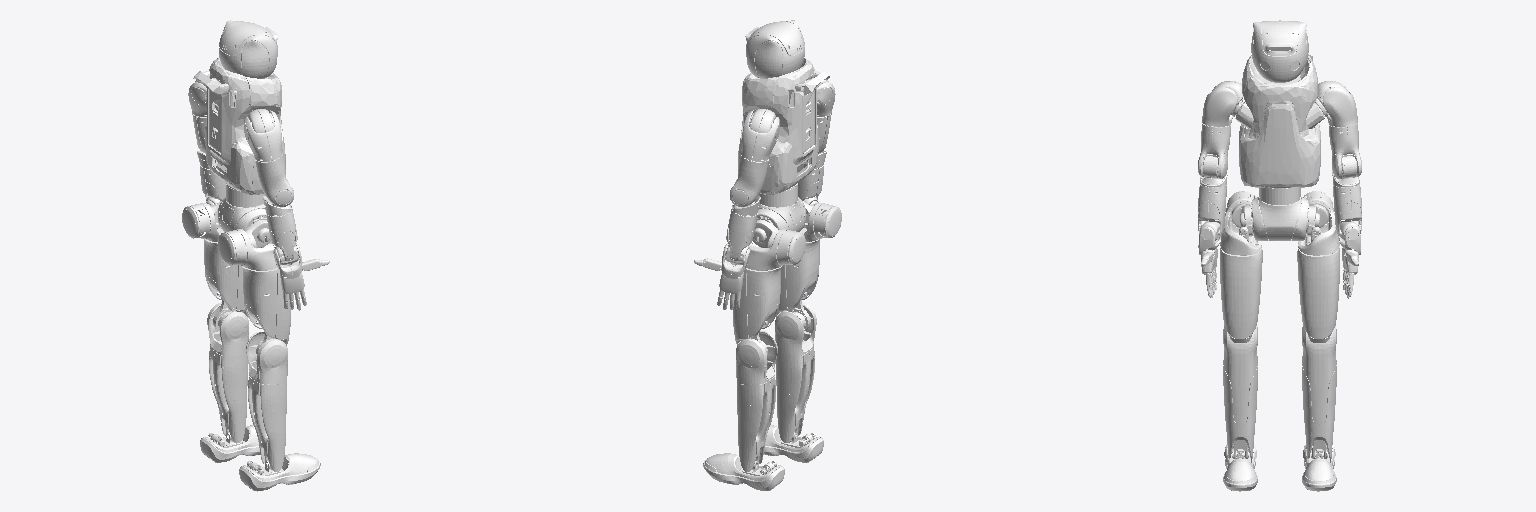
--- What the picture shows (computed from the rendered views, not written in the file) ---
Views: 3 orthographic renders of the robot side by side, from view 1: azimuth 30°, elevation 25°; view 2: azimuth 150°, elevation 25°; view 3: azimuth 270°, elevation 25°.
Model gr3v2_1_1 with 39 links and 38 joints (31 revolute, 7 fixed), rooted at base_link, posed all joints at 0.
Visible links, largest first — view 1: torso_link, right_shank_pitch_link, left_shank_pitch_link, head_pitch_link, right_thigh_yaw_link, left_thigh_yaw_link, right_foot_roll_link, right_thigh_roll_link, left_foot_roll_link, right_upper_arm_yaw_link, right_upper_arm_roll_link, left_thigh_roll_link (+7 smaller); view 2: torso_link, left_shank_pitch_link, right_shank_pitch_link, head_pitch_link, left_thigh_yaw_link, right_thigh_yaw_link, left_foot_roll_link, left_thigh_roll_link, right_foot_roll_link, left_upper_arm_yaw_link, left_upper_arm_roll_link, right_thigh_roll_link (+7 smaller); view 3: torso_link, right_shank_pitch_link, left_shank_pitch_link, left_thigh_yaw_link, right_thigh_yaw_link, head_pitch_link, base_link, right_thigh_roll_link, left_thigh_roll_link, right_upper_arm_yaw_link, left_upper_arm_yaw_link, right_foot_roll_link (+10 smaller).
Boxes of the visible links, x1,y1,x2,y2 form: torso_link: [193, 58, 285, 194]; right_shank_pitch_link: [246, 331, 287, 471]; left_shank_pitch_link: [207, 302, 248, 443]; head_pitch_link: [219, 20, 278, 78]; right_thigh_yaw_link: [242, 266, 290, 352]; left_thigh_yaw_link: [204, 239, 247, 331]; right_foot_roll_link: [239, 453, 320, 491]; right_thigh_roll_link: [218, 229, 277, 270]; left_foot_roll_link: [200, 425, 259, 462]; right_upper_arm_yaw_link: [255, 154, 293, 206]; right_upper_arm_roll_link: [244, 110, 282, 161]; left_thigh_roll_link: [182, 203, 223, 241]; torso_link: [738, 58, 829, 194]; left_shank_pitch_link: [736, 330, 777, 471]; right_shank_pitch_link: [775, 302, 816, 442]; head_pitch_link: [745, 20, 804, 78]; left_thigh_yaw_link: [733, 266, 781, 352]; right_thigh_yaw_link: [776, 239, 819, 330]; left_foot_roll_link: [703, 453, 784, 490]; left_thigh_roll_link: [746, 229, 805, 270]; right_foot_roll_link: [764, 425, 823, 462]; left_upper_arm_yaw_link: [730, 154, 768, 206]; left_upper_arm_roll_link: [741, 110, 779, 161]; right_thigh_roll_link: [800, 203, 841, 241]; torso_link: [1235, 54, 1324, 187]; right_shank_pitch_link: [1223, 326, 1257, 458]; left_shank_pitch_link: [1302, 326, 1336, 458]; left_thigh_yaw_link: [1297, 245, 1339, 342]; right_thigh_yaw_link: [1220, 246, 1262, 342]; head_pitch_link: [1251, 20, 1308, 82]; base_link: [1251, 197, 1308, 240]; right_thigh_roll_link: [1220, 191, 1261, 255]; left_thigh_roll_link: [1298, 191, 1339, 255]; right_upper_arm_yaw_link: [1198, 123, 1230, 178]; left_upper_arm_yaw_link: [1329, 123, 1361, 178]; right_foot_roll_link: [1223, 445, 1257, 491].
Size in the robot's own frame: 0.3854 by 0.5488 by 1.64 metres.
37 mesh visuals loaded from 37 distinct referenced files (37 binary STL).

The robot description file, URDF, robot "gr3v2_1_1":
<?xml version="1.0" encoding="utf-8"?>
<!-- 11082025-alpha-1 -->
<robot name="gr3v2_1_1">
  <mujoco>
    <compiler meshdir="../meshes" strippath="false" balanceinertia="true" fusestatic="false" discardvisual="false" />
  </mujoco>
  <link name="base_link">
    <inertial>
      <origin xyz="0.00126521 -3.743E-05 0.02420006" rpy="0 0 0" />
      <mass value="6.19011858" />
      <inertia ixx="0.03462235" ixy="-5.768E-05" ixz="-4.396E-05" iyy="0.03012463" iyz="2.472E-05" izz="0.02221918" />
    </inertial>
    <visual>
      <origin xyz="0 0 0" rpy="0 0 0" />
      <geometry>
        <mesh filename="../meshes/gr3v2_1_1/base_link.STL" />
      </geometry>
      <material name="">
        <color rgba="1 1 1 1" />
      </material>
    </visual>
    <collision>
      <origin xyz="0 0 0" rpy="1.57 0 0" />
      <geometry>
        <cylinder radius="0.065" length="0.15" />
      </geometry>
    </collision>
  </link>
  <link name="waist_yaw_link">
    <inertial>
      <origin xyz="0.01702794 6.721E-05 0.01763605" rpy="0 0 0" />
      <mass value="1.7648565" />
      <inertia ixx="0.00722748" ixy="4.6E-07" ixz="-0.00068076" iyy="0.00392986" iyz="-7.02E-06" izz="0.00730575" />
    </inertial>
    <visual>
      <origin xyz="0 0 0" rpy="0 0 0" />
      <geometry>
        <mesh filename="../meshes/gr3v2_1_1/waist_yaw_link.STL" />
      </geometry>
      <material name="">
        <color rgba="1 1 1 1" />
      </material>
    </visual>
    <collision>
      <origin xyz="0 0 0.025" rpy="0 0 0" />
      <geometry>
        <cylinder radius="0.075" length="0.1" />
      </geometry>
    </collision>
  </link>
  <joint name="waist_yaw_joint" type="revolute">
    <origin xyz="0 0 0.13633" rpy="0 0 0" />
    <parent link="base_link" />
    <child link="waist_yaw_link" />
    <axis xyz="0 0 1" />
    <limit lower="-2.618" upper="2.618" effort="140.4" velocity="12.985" />
    <dynamics armature="0.18" friction="0.01" damping="0.01" />
  </joint>
  <link name="waist_roll_link">
    <inertial>
      <origin xyz="-0.00194402 0 4.95E-05" rpy="0 0 0" />
      <mass value="0.20486665" />
      <inertia ixx="1.641E-05" ixy="0" ixz="-1E-08" iyy="0.00011436" iyz="0" izz="0.00011612" />
    </inertial>
    <visual>
      <origin xyz="0 0 0" rpy="0 0 0" />
      <geometry>
        <mesh filename="../meshes/gr3v2_1_1/waist_roll_link.STL" />
      </geometry>
      <material name="">
        <color rgba="1 1 1 1" />
      </material>
    </visual>
  </link>
  <joint name="waist_roll_joint" type="revolute">
    <origin xyz="0 0 0.0561" rpy="0 0 0" />
    <parent link="waist_yaw_link" />
    <child link="waist_roll_link" />
    <axis xyz="1 0 0" />
    <limit lower="-0.17453" upper="0.17453" effort="108.6" velocity="14.77" />
    <dynamics armature="0.0825" friction="0.01" damping="0.01" />
  </joint>
  <link name="waist_pitch_link">
    <inertial>
      <origin xyz="-0.0036965 -0.00014711 0.00611145" rpy="0 0 0" />
      <mass value="2.88081135" />
      <inertia ixx="0.01959026" ixy="-4.28E-06" ixz="0.00022178" iyy="0.00325257" iyz="1.26E-06" izz="0.01970109" />
    </inertial>
    <visual>
      <origin xyz="0 0 0" rpy="0 0 0" />
      <geometry>
        <mesh filename="../meshes/gr3v2_1_1/waist_pitch_link.STL" />
      </geometry>
      <material name="">
        <color rgba="1 1 1 1" />
      </material>
    </visual>
  </link>
  <joint name="waist_pitch_joint" type="revolute">
    <origin xyz="0 0 0" rpy="0 0 0" />
    <parent link="waist_roll_link" />
    <child link="waist_pitch_link" />
    <axis xyz="0 1 0" />
    <limit lower="-0.20944" upper="0.5236" effort="108.6" velocity="14.77" />
    <dynamics armature="0.0825" friction="0.01" damping="0.01" />
  </joint>
  <link name="torso_link">
    <inertial>
      <origin xyz="-0.021961 -6.36E-05 -0.0090606" rpy="0 0 0" />
      <mass value="13.694" />
      <inertia ixx="0.18768" ixy="5.801E-05" ixz="0.011146" iyy="0.18007" iyz="7.989E-05" izz="0.10396" />
    </inertial>
    <visual>
      <origin xyz="0 0 0" rpy="0 0 0" />
      <geometry>
        <mesh filename="../meshes/gr3v2_1_1/torso_link.STL" />
      </geometry>
      <material name="">
        <color rgba="1 1 1 1" />
      </material>
    </visual>
    <collision>
      <origin xyz="-0.01 0 -0.03" rpy="0 0 0" />
      <geometry>
        <box size="0.2 0.15 0.20" />
      </geometry>
    </collision>
  </link>
  <joint name="torso_joint" type="fixed">
    <origin xyz="0 0 0.19798" rpy="0 0 0" />
    <parent link="waist_pitch_link" />
    <child link="torso_link" />
    <axis xyz="0 0 0" />
  </joint>
  <link name="head_yaw_link">
    <inertial>
      <origin xyz="0.0012671 0.011829 0.012608" rpy="0 0 0" />
      <mass value="0.20381" />
      <inertia ixx="0.00020713" ixy="-2.25E-06" ixz="-6.5E-06" iyy="0.00016456" iyz="-3.84E-05" izz="8.006E-05" />
    </inertial>
    <visual>
      <origin xyz="0 0 0" rpy="0 0 0" />
      <geometry>
        <mesh filename="../meshes/gr3v2_1_1/head_yaw_link.STL" />
      </geometry>
      <material name="">
        <color rgba="1 1 1 1" />
      </material>
    </visual>
  </link>
  <joint name="head_yaw_joint" type="revolute">
    <origin xyz="0.0077592 0 0.18812" rpy="0 0 0" />
    <parent link="torso_link" />
    <child link="head_yaw_link" />
    <axis xyz="0 0 1" />
    <limit lower="-1.3963" upper="1.3963" effort="17.4" velocity="9.21" />
    <dynamics armature="0.111" friction="0.01" damping="0.01" />
  </joint>
  <link name="head_pitch_link">
    <inertial>
      <origin xyz="-0.0022067 0.0014158 0.022733" rpy="0 0 0" />
      <mass value="1.2045" />
      <inertia ixx="0.003928" ixy="-7E-07" ixz="0.00029216" iyy="0.0042584" iyz="3.061E-05" izz="0.004274" />
    </inertial>
    <visual>
      <origin xyz="0 0 0" rpy="0 0 0" />
      <geometry>
        <mesh filename="../meshes/gr3v2_1_1/head_pitch_link.STL" />
      </geometry>
      <material name="">
        <color rgba="1 1 1 1" />
      </material>
    </visual>
    <collision>
      <origin xyz="0 0 0" rpy="0 0 0" />
      <geometry>
        <sphere radius="0.1" />
      </geometry>
    </collision>
  </link>
  <joint name="head_pitch_joint" type="revolute">
    <origin xyz="0.0028545 0 0.037315" rpy="0 0 0" />
    <parent link="head_yaw_link" />
    <child link="head_pitch_link" />
    <axis xyz="0 1 0" />
    <limit lower="-0.5236" upper="0.1483" effort="17.4" velocity="9.21" />
    <dynamics armature="0.111" friction="0.01" damping="0.01" />
  </joint>
  <link name="camera_link">
    <inertial>
      <origin xyz="-0.0006 0 0" rpy="0 0 0" />
      <mass value="0.00156615" />
      <inertia ixx="8E-07" ixy="0" ixz="0" iyy="3E-08" iyz="0" izz="7.7E-07" />
    </inertial>
    <visual>
      <origin xyz="0 0 0" rpy="0 0 0" />
      <geometry>
        <mesh filename="../meshes/gr3v2_1_1/camera_link.STL" />
      </geometry>
      <material name="">
        <color rgba="1 1 1 1" />
      </material>
    </visual>
  </link>
  <joint name="camera_joint" type="fixed">
    <origin xyz="0.090296 0 0.05116" rpy="0 0.2618 0" />
    <parent link="head_pitch_link" />
    <child link="camera_link" />
    <axis xyz="0 0 0" />
  </joint>
  <link name="right_upper_arm_pitch_link">
    <inertial>
      <origin xyz="-0.00109222 -0.0432651 7.305E-05" rpy="0 0 0" />
      <mass value="1.40210533" />
      <inertia ixx="0.00334318" ixy="-2.606E-05" ixz="1.51E-06" iyy="0.00138339" iyz="-1.328E-05" izz="0.0031165" />
    </inertial>
    <visual>
      <origin xyz="0 0 0" rpy="0 0 0" />
      <geometry>
        <mesh filename="../meshes/gr3v2_1_1/right_upper_arm_pitch_link.STL" />
      </geometry>
      <material name="">
        <color rgba="1 1 1 1" />
      </material>
    </visual>
  </link>
  <joint name="right_shoulder_pitch_joint" type="revolute">
    <origin xyz="-0.017665 -0.11819 0" rpy="-0.53175 -0.16811 -0.2775" />
    <parent link="torso_link" />
    <child link="right_upper_arm_pitch_link" />
    <axis xyz="0 1 0" />
    <limit lower="-2.9671" upper="2.9671" effort="74.4" velocity="7.75" />
    <dynamics armature="0.606" friction="0.01" damping="0.01" />
  </joint>
  <link name="right_upper_arm_roll_link">
    <inertial>
      <origin xyz="-0.00922224 0.00507521 -0.04401168" rpy="0 0 0" />
      <mass value="1.14984334" />
      <inertia ixx="0.00387156" ixy="-5.101E-05" ixz="0.00039406" iyy="0.0040806" iyz="0.00054528" izz="0.00179979" />
    </inertial>
    <visual>
      <origin xyz="0 0 0" rpy="0 0 0" />
      <geometry>
        <mesh filename="../meshes/gr3v2_1_1/right_upper_arm_roll_link.STL" />
      </geometry>
      <material name="">
        <color rgba="1 1 1 1" />
      </material>
    </visual>
    <collision>
      <origin xyz="0 0 0" rpy="0 0 0" />
      <geometry>
        <sphere radius="0.05" />
      </geometry>
    </collision>
  </link>
  <joint name="right_shoulder_roll_joint" type="revolute">
    <origin xyz="0 -0.0695 0" rpy="0 0 0" />
    <parent link="right_upper_arm_pitch_link" />
    <child link="right_upper_arm_roll_link" />
    <axis xyz="1 0 0" />
    <limit lower="-1.9199" upper="0.2618" effort="74.4" velocity="7.75" />
    <dynamics armature="0.606" friction="0.01" damping="0.01" />
  </joint>
  <link name="right_upper_arm_yaw_link">
    <inertial>
      <origin xyz="0.00487548 -0.00323214 -0.06703769" rpy="0 0 0" />
      <mass value="1.09369321" />
      <inertia ixx="0.00387487" ixy="4.015E-05" ixz="0.00036967" iyy="0.00381538" iyz="-0.00024676" izz="0.00126043" />
    </inertial>
    <visual>
      <origin xyz="0 0 0" rpy="0 0 0" />
      <geometry>
        <mesh filename="../meshes/gr3v2_1_1/right_upper_arm_yaw_link.STL" />
      </geometry>
      <material name="">
        <color rgba="1 1 1 1" />
      </material>
    </visual>
    <collision>
      <origin xyz="0 0 -0.05" rpy="0 0 0" />
      <geometry>
        <cylinder radius="0.04" length="0.14" />
      </geometry>
    </collision>
  </link>
  <joint name="right_shoulder_yaw_joint" type="revolute">
    <origin xyz="0 0.022594 -0.10473" rpy="0.5236 0 0" />
    <parent link="right_upper_arm_roll_link" />
    <child link="right_upper_arm_yaw_link" />
    <axis xyz="0 0 1" />
    <limit lower="-1.8326" upper="1.8326" effort="42.9" velocity="6.28" />
    <dynamics armature="0.222" friction="0.01" damping="0.01" />
  </joint>
  <link name="right_lower_arm_pitch_link">
    <inertial>
      <origin xyz="-0.00706017 -0.00106132 -0.02042184" rpy="0 0 0" />
      <mass value="0.87226659" />
      <inertia ixx="0.00137334" ixy="5.84E-06" ixz="-0.00020615" iyy="0.00144177" iyz="1.93E-05" izz="0.00069702" />
    </inertial>
    <visual>
      <origin xyz="0 0 0" rpy="0 0 0" />
      <geometry>
        <mesh filename="../meshes/gr3v2_1_1/right_lower_arm_pitch_link.STL" />
      </geometry>
      <material name="">
        <color rgba="1 1 1 1" />
      </material>
    </visual>
  </link>
  <joint name="right_elbow_pitch_joint" type="revolute">
    <origin xyz="0.01643 0 -0.1385" rpy="0 0 0" />
    <parent link="right_upper_arm_yaw_link" />
    <child link="right_lower_arm_pitch_link" />
    <axis xyz="0 1 0" />
    <limit lower="-2.2689" upper="0.087266" effort="42.9" velocity="6.28" />
    <dynamics armature="0.222" friction="0.01" damping="0.01" />
  </joint>
  <link name="right_hand_yaw_link">
    <inertial>
      <origin xyz="-0.00029804 0.00296836 -0.06870519" rpy="0 0 0" />
      <mass value="1.21478268" />
      <inertia ixx="0.00310758" ixy="8.05E-06" ixz="-1.747E-05" iyy="0.00297784" iyz="0.00012298" izz="0.00103708" />
    </inertial>
    <visual>
      <origin xyz="0 0 0" rpy="0 0 0" />
      <geometry>
        <mesh filename="../meshes/gr3v2_1_1/right_hand_yaw_link.STL" />
      </geometry>
      <material name="">
        <color rgba="1 1 1 1" />
      </material>
    </visual>
    <collision>
      <origin xyz="0 0 -0.07" rpy="0 0 0" />
      <geometry>
        <cylinder radius="0.04" length="0.12" />
      </geometry>
    </collision>
  </link>
  <joint name="right_wrist_yaw_joint" type="revolute">
    <origin xyz="-0.01643 0 -0.05" rpy="0 0 0" />
    <parent link="right_lower_arm_pitch_link" />
    <child link="right_hand_yaw_link" />
    <axis xyz="0 0 1" />
    <limit lower="-1.8326" upper="1.8326" effort="42.9" velocity="6.28" />
    <dynamics armature="0.222" friction="0.01" damping="0.01" />
  </joint>
  <link name="right_hand_pitch_link">
    <inertial>
      <origin xyz="0.00394048 -2.63E-06 7.196E-05" rpy="0 0 0" />
      <mass value="0.57735702" />
      <inertia ixx="0.00032034" ixy="2.1E-07" ixz="-3.4E-07" iyy="0.00034721" iyz="4.7E-07" izz="0.00032025" />
    </inertial>
    <visual>
      <origin xyz="0 0 0" rpy="0 0 0" />
      <geometry>
        <mesh filename="../meshes/gr3v2_1_1/right_hand_pitch_link.STL" />
      </geometry>
      <material name="">
        <color rgba="1 1 1 1" />
      </material>
    </visual>
  </link>
  <joint name="right_wrist_pitch_joint" type="revolute">
    <origin xyz="0 0 -0.18" rpy="0 0 0" />
    <parent link="right_hand_yaw_link" />
    <child link="right_hand_pitch_link" />
    <axis xyz="0 1 0" />
    <limit lower="-0.87266" upper="1.309" effort="17.4" velocity="9.2153" />
    <dynamics armature="0.111" friction="0.01" damping="0.01" />
  </joint>
  <link name="right_hand_roll_link">
    <inertial>
      <origin xyz="0.00765557 -0.00226771 -0.02129629" rpy="0 0 0" />
      <mass value="0.2121397" />
      <inertia ixx="0.00018994" ixy="-3.38E-06" ixz="-2.638E-05" iyy="0.00028438" iyz="-2.011E-05" izz="0.000194" />
    </inertial>
    <visual>
      <origin xyz="0 0 0" rpy="0 0 0" />
      <geometry>
        <mesh filename="../meshes/gr3v2_1_1/right_hand_roll_link.STL" />
      </geometry>
      <material name="">
        <color rgba="1 1 1 1" />
      </material>
    </visual>
  </link>
  <joint name="right_wrist_roll_joint" type="revolute">
    <origin xyz="0 -0.00049967 0" rpy="0 0 0" />
    <parent link="right_hand_pitch_link" />
    <child link="right_hand_roll_link" />
    <axis xyz="1 0 0" />
    <limit lower="-1.2217" upper="1.0472" effort="17.4" velocity="9.2153" />
    <dynamics armature="0.111" friction="0.01" damping="0.01" />
  </joint>
  <link name="right_end_effector_link">
  </link>
  <joint name="right_end_effector_joint" type="fixed">
    <origin xyz="0 0 -0.049" rpy="0 0 0" />
    <parent link="right_hand_roll_link" />
    <child link="right_end_effector_link" />
    <axis xyz="0 0 0" />
  </joint>
  <link name="left_upper_arm_pitch_link">
    <inertial>
      <origin xyz="-0.00109222 0.0432651 7.305E-05" rpy="0 0 0" />
      <mass value="1.40210533" />
      <inertia ixx="0.00334318" ixy="2.606E-05" ixz="1.51E-06" iyy="0.00138339" iyz="1.328E-05" izz="0.0031165" />
    </inertial>
    <visual>
      <origin xyz="0 0 0" rpy="0 0 0" />
      <geometry>
        <mesh filename="../meshes/gr3v2_1_1/left_upper_arm_pitch_link.STL" />
      </geometry>
      <material name="">
        <color rgba="1 1 1 1" />
      </material>
    </visual>
  </link>
  <joint name="left_shoulder_pitch_joint" type="revolute">
    <origin xyz="-0.017665 0.11818 0" rpy="0.53175 -0.16811 0.2775" />
    <parent link="torso_link" />
    <child link="left_upper_arm_pitch_link" />
    <axis xyz="0 1 0" />
    <limit lower="-2.9671" upper="2.9671" effort="74.4" velocity="7.75" />
    <dynamics armature="0.606" friction="0.01" damping="0.01" />
  </joint>
  <link name="left_upper_arm_roll_link">
    <inertial>
      <origin xyz="-0.00922224 -0.00507521 -0.04401168" rpy="0 0 0" />
      <mass value="1.14984334" />
      <inertia ixx="0.00387156" ixy="5.101E-05" ixz="0.00039406" iyy="0.0040806" iyz="-0.00054528" izz="0.00179979" />
    </inertial>
    <visual>
      <origin xyz="0 0 0" rpy="0 0 0" />
      <geometry>
        <mesh filename="../meshes/gr3v2_1_1/left_upper_arm_roll_link.STL" />
      </geometry>
      <material name="">
        <color rgba="1 1 1 1" />
      </material>
    </visual>
    <collision>
      <origin xyz="0 0 0" rpy="0 0 0" />
      <geometry>
        <sphere radius="0.05" />
      </geometry>
    </collision>
  </link>
  <joint name="left_shoulder_roll_joint" type="revolute">
    <origin xyz="0 0.0695 0" rpy="0 0 0" />
    <parent link="left_upper_arm_pitch_link" />
    <child link="left_upper_arm_roll_link" />
    <axis xyz="1 0 0" />
    <limit lower="-0.2618" upper="1.9199" effort="74.4" velocity="7.75" />
    <dynamics armature="0.606" friction="0.01" damping="0.01" />
  </joint>
  <link name="left_upper_arm_yaw_link">
    <inertial>
      <origin xyz="0.00487548 0.00323214 -0.06703769" rpy="0 0 0" />
      <mass value="1.09369321" />
      <inertia ixx="0.00387487" ixy="-4.015E-05" ixz="0.00036967" iyy="0.00381538" iyz="0.00024676" izz="0.00126043" />
    </inertial>
    <visual>
      <origin xyz="0 0 0" rpy="0 0 0" />
      <geometry>
        <mesh filename="../meshes/gr3v2_1_1/left_upper_arm_yaw_link.STL" />
      </geometry>
      <material name="">
        <color rgba="1 1 1 1" />
      </material>
    </visual>
    <collision>
      <origin xyz="0 0 -0.05" rpy="0 0 0" />
      <geometry>
        <cylinder radius="0.04" length="0.14" />
      </geometry>
    </collision>
  </link>
  <joint name="left_shoulder_yaw_joint" type="revolute">
    <origin xyz="0 -0.022594 -0.10473" rpy="-0.5236 0 0" />
    <parent link="left_upper_arm_roll_link" />
    <child link="left_upper_arm_yaw_link" />
    <axis xyz="0 0 1" />
    <limit lower="-1.8326" upper="1.8326" effort="42.9" velocity="6.28" />
    <dynamics armature="0.222" friction="0.01" damping="0.01" />
  </joint>
  <link name="left_lower_arm_pitch_link">
    <inertial>
      <origin xyz="-0.00706017 0.00106132 -0.02042184" rpy="0 0 0" />
      <mass value="0.87226659" />
      <inertia ixx="0.00137334" ixy="-5.84E-06" ixz="-0.00020615" iyy="0.00144177" iyz="-1.93E-05" izz="0.00069702" />
    </inertial>
    <visual>
      <origin xyz="0 0 0" rpy="0 0 0" />
      <geometry>
        <mesh filename="../meshes/gr3v2_1_1/left_lower_arm_pitch_link.STL" />
      </geometry>
      <material name="">
        <color rgba="1 1 1 1" />
      </material>
    </visual>
  </link>
  <joint name="left_elbow_pitch_joint" type="revolute">
    <origin xyz="0.01643 0 -0.1385" rpy="0 0 0" />
    <parent link="left_upper_arm_yaw_link" />
    <child link="left_lower_arm_pitch_link" />
    <axis xyz="0 1 0" />
    <limit lower="-2.2689" upper="0.087266" effort="42.9" velocity="6.28" />
    <dynamics armature="0.222" friction="0.01" damping="0.01" />
  </joint>
  <link name="left_hand_yaw_link">
    <inertial>
      <origin xyz="-0.00029804 -0.00296836 -0.06870519" rpy="0 0 0" />
      <mass value="1.21478268" />
      <inertia ixx="0.00310758" ixy="-8.05E-06" ixz="-1.747E-05" iyy="0.00297784" iyz="-0.00012298" izz="0.00103708" />
    </inertial>
    <visual>
      <origin xyz="0 0 0" rpy="0 0 0" />
      <geometry>
        <mesh filename="../meshes/gr3v2_1_1/left_hand_yaw_link.STL" />
      </geometry>
      <material name="">
        <color rgba="1 1 1 1" />
      </material>
    </visual>
    <collision>
      <origin xyz="0 0 -0.07" rpy="0 0 0" />
      <geometry>
        <cylinder radius="0.04" length="0.12" />
      </geometry>
    </collision>
  </link>
  <joint name="left_wrist_yaw_joint" type="revolute">
    <origin xyz="-0.01643 0 -0.05" rpy="0 0 0" />
    <parent link="left_lower_arm_pitch_link" />
    <child link="left_hand_yaw_link" />
    <axis xyz="0 0 1" />
    <limit lower="-1.8326" upper="1.8326" effort="42.9" velocity="6.28" />
    <dynamics armature="0.222" friction="0.01" damping="0.01" />
  </joint>
  <link name="left_hand_pitch_link">
    <inertial>
      <origin xyz="0.00394048 2.63E-06 7.196E-05" rpy="0 0 0" />
      <mass value="0.57735702" />
      <inertia ixx="0.00032034" ixy="-2.1E-07" ixz="-3.4E-07" iyy="0.00034721" iyz="-4.7E-07" izz="0.00032025" />
    </inertial>
    <visual>
      <origin xyz="0 0 0" rpy="0 0 0" />
      <geometry>
        <mesh filename="../meshes/gr3v2_1_1/left_hand_pitch_link.STL" />
      </geometry>
      <material name="">
        <color rgba="1 1 1 1" />
      </material>
    </visual>
  </link>
  <joint name="left_wrist_pitch_joint" type="revolute">
    <origin xyz="0 0 -0.18" rpy="0 0 0" />
    <parent link="left_hand_yaw_link" />
    <child link="left_hand_pitch_link" />
    <axis xyz="0 1 0" />
    <limit lower="-0.87266" upper="1.309" effort="17.4" velocity="9.2153" />
    <dynamics armature="0.111" friction="0.01" damping="0.01" />
  </joint>
  <link name="left_hand_roll_link">
    <inertial>
      <origin xyz="0.00765557 0.00226771 -0.02129629" rpy="0 0 0" />
      <mass value="0.2121397" />
      <inertia ixx="0.00018994" ixy="3.38E-06" ixz="-2.638E-05" iyy="0.00028438" iyz="2.011E-05" izz="0.000194" />
    </inertial>
    <visual>
      <origin xyz="0 0 0" rpy="0 0 0" />
      <geometry>
        <mesh filename="../meshes/gr3v2_1_1/left_hand_roll_link.STL" />
      </geometry>
      <material name="">
        <color rgba="1 1 1 1" />
      </material>
    </visual>
  </link>
  <joint name="left_wrist_roll_joint" type="revolute">
    <origin xyz="0 0 0" rpy="0 0 0" />
    <parent link="left_hand_pitch_link" />
    <child link="left_hand_roll_link" />
    <axis xyz="1 0 0" />
    <limit lower="-1.0472" upper="1.2217" effort="17.4" velocity="9.2153" />
    <dynamics armature="0.111" friction="0.01" damping="0.01" />
  </joint>
  <link name="left_end_effector_link">

  </link>
  <joint name="left_end_effector_joint" type="fixed">
    <origin xyz="0 0 -0.049" rpy="0 0 0" />
    <parent link="left_hand_roll_link" />
    <child link="left_end_effector_link" />
    <axis xyz="0 0 0" />
  </joint>
  <link name="right_thigh_pitch_link">
    <inertial>
      <origin xyz="-0.03371257 -0.01478299 -0.00641529" rpy="0 0 0" />
      <mass value="2.11064201" />
      <inertia ixx="0.0037506" ixy="-0.00234201" ixz="-0.00058672" iyy="0.00634445" iyz="-0.00042262" izz="0.0077446" />
    </inertial>
    <visual>
      <origin xyz="0 0 0" rpy="0 0 0" />
      <geometry>
        <mesh filename="../meshes/gr3v2_1_1/right_thigh_pitch_link.STL" />
      </geometry>
      <material name="">
        <color rgba="1 1 1 1" />
      </material>
    </visual>
  </link>
  <joint name="right_hip_pitch_joint" type="revolute">
    <origin xyz="0 -0.074191 -0.0064909" rpy="0.087266 0 0" />
    <parent link="base_link" />
    <child link="right_thigh_pitch_link" />
    <axis xyz="0 1 0" />
    <limit lower="-2.618" upper="2.618" effort="366" velocity="6.49" />
    <dynamics armature="0.592" friction="0.01" damping="0.01" />
  </joint>
  <link name="right_thigh_roll_link">
    <inertial>
      <origin xyz="-0.04311887 -0.00872071 -0.0463606" rpy="0 0 0" />
      <mass value="3.23888801" />
      <inertia ixx="0.01009227" ixy="0.00074153" ixz="0.00661154" iyy="0.01947534" iyz="-0.00041876" izz="0.01518734" />
    </inertial>
    <visual>
      <origin xyz="0 0 0" rpy="0 0 0" />
      <geometry>
        <mesh filename="../meshes/gr3v2_1_1/right_thigh_roll_link.STL" />
      </geometry>
      <material name="">
        <color rgba="1 1 1 1" />
      </material>
    </visual>
    <collision>
      <origin xyz="-0.045 -0.015 0" rpy="0 0 0" />
      <geometry>
        <box size="0.2 0.02 0.08" />
      </geometry>
    </collision>
  </link>
  <joint name="right_hip_roll_joint" type="revolute">
    <origin xyz="0 -0.0479 -0.015" rpy="-0.087266 0 0" />
    <parent link="right_thigh_pitch_link" />
    <child link="right_thigh_roll_link" />
    <axis xyz="1 0 0" />
    <limit lower="-1.5708" upper="0.17453" effort="140.4" velocity="12.985" />
    <dynamics armature="0.18" friction="0.01" damping="0.01" />
  </joint>
  <link name="right_thigh_yaw_link">
    <inertial>
      <origin xyz="0.00334277 -0.00252174 -0.12216115" rpy="0 0 0" />
      <mass value="5.4181897" />
      <inertia ixx="0.04069328" ixy="-9.41E-06" ixz="0.00107026" iyy="0.04236917" iyz="-0.00045267" izz="0.01020975" />
    </inertial>
    <visual>
      <origin xyz="0 0 0" rpy="0 0 0" />
      <geometry>
        <mesh filename="../meshes/gr3v2_1_1/right_thigh_yaw_link.STL" />
      </geometry>
      <material name="">
        <color rgba="1 1 1 1" />
      </material>
    </visual>
    <collision>
      <origin xyz="0 0 -0.15" rpy="0 0 0" />
      <geometry>
        <cylinder radius="0.055" length="0.22" />
      </geometry>
    </collision>
  </link>
  <joint name="right_hip_yaw_joint" type="revolute">
    <origin xyz="0.0052421 -0.010464 -0.093339" rpy="0 0 0" />
    <parent link="right_thigh_roll_link" />
    <child link="right_thigh_yaw_link" />
    <axis xyz="0 0 1" />
    <limit lower="-1.5708" upper="0.69813" effort="140.4" velocity="12.985" />
    <dynamics armature="0.18" friction="0.01" damping="0.01" />
  </joint>
  <link name="right_shank_pitch_link">
    <inertial>
      <origin xyz="0.01206312 4.306E-05 -0.19818201" rpy="0 0 0" />
      <mass value="3.19509257" />
      <inertia ixx="0.04100035" ixy="-4.117E-05" ixz="0.00028647" iyy="0.04168073" iyz="-3.7E-06" izz="0.00410335" />
    </inertial>
    <visual>
      <origin xyz="0 0 0" rpy="0 0 0" />
      <geometry>
        <mesh filename="../meshes/gr3v2_1_1/right_shank_pitch_link.STL" />
      </geometry>
      <material name="">
        <color rgba="1 1 1 1" />
      </material>
    </visual>
    <collision>
      <origin xyz="0 0 -0.185" rpy="0 0 0" />
      <geometry>
        <cylinder radius="0.055" length="0.25" />
      </geometry>
    </collision>
  </link>
  <joint name="right_knee_pitch_joint" type="revolute">
    <origin xyz="0 0 -0.31499" rpy="0 0 0" />
    <parent link="right_thigh_yaw_link" />
    <child link="right_shank_pitch_link" />
    <axis xyz="0 1 0" />
    <limit lower="0" upper="2.3562" effort="366" velocity="6.49" />
    <dynamics armature="0.592" friction="0.01" damping="0.01" />
  </joint>
  <link name="right_foot_pitch_link">
    <inertial>
      <origin xyz="0 0 -1.223E-05" rpy="0 0 0" />
      <mass value="0.0594926" />
      <inertia ixx="6.77E-06" ixy="0" ixz="0" iyy="6.15E-06" iyz="0" izz="3.74E-06" />
    </inertial>
    <visual>
      <origin xyz="0 0 0" rpy="0 0 0" />
      <geometry>
        <mesh filename="../meshes/gr3v2_1_1/right_foot_pitch_link.STL" />
      </geometry>
      <material name="">
        <color rgba="1 1 1 1" />
      </material>
    </visual>
    <collision name="cylinder_foot_1">
      <origin xyz="0.028 -0.02 -0.048" rpy="0 1.57 0" />
      <geometry>
        <cylinder radius="0.02" length="0.24" />
      </geometry>
    </collision>
    <collision name="cylinder_foot_2">
      <origin xyz="0.028 0.02 -0.048" rpy="0 1.57 0" />
      <geometry>
        <cylinder radius="0.02" length="0.24" />
      </geometry>
    </collision>
  </link>
  <joint name="right_ankle_pitch_joint" type="revolute">
    <origin xyz="0.019967 0 -0.425" rpy="0 0 0" />
    <parent link="right_shank_pitch_link" />
    <child link="right_foot_pitch_link" />
    <axis xyz="0 1 0" />
    <limit lower="-0.7854" upper="0.7854" effort="59.4" velocity="16.76" />
    <dynamics armature="0.062" friction="0.01" damping="0.01" />
  </joint>
  <link name="right_foot_roll_link">
    <inertial>
      <origin xyz="0.00555284 0.00021651 -0.03679271" rpy="0 0 0" />
      <mass value="1.21412398" />
      <inertia ixx="0.0013948" ixy="2.058E-05" ixz="0.00065308" iyy="0.00797003" iyz="-1.129E-05" izz="0.00825114" />
    </inertial>
    <visual>
      <origin xyz="0 0 0" rpy="0 0 0" />
      <geometry>
        <mesh filename="../meshes/gr3v2_1_1/right_foot_roll_link.STL" />
      </geometry>
      <material name="">
        <color rgba="1 1 1 1" />
      </material>
    </visual>
  </link>
  <joint name="right_ankle_roll_joint" type="revolute">
    <origin xyz="0 0 0" rpy="0 0 0" />
    <parent link="right_foot_pitch_link" />
    <child link="right_foot_roll_link" />
    <axis xyz="1 0 0" />
    <limit lower="-0.43633" upper="0.43633" effort="59.4" velocity="16.76" />
    <dynamics armature="0.0155" friction="0.01" damping="0.01" />
  </joint>
  <link name="left_thigh_pitch_link">
    <inertial>
      <origin xyz="-0.03371257 0.01478299 -0.00641529" rpy="0 0 0" />
      <mass value="2.11064201" />
      <inertia ixx="0.0037506" ixy="0.00234201" ixz="-0.00058672" iyy="0.00634445" iyz="0.00042262" izz="0.0077446" />
    </inertial>
    <visual>
      <origin xyz="0 0 0" rpy="0 0 0" />
      <geometry>
        <mesh filename="../meshes/gr3v2_1_1/left_thigh_pitch_link.STL" />
      </geometry>
      <material name="">
        <color rgba="1 1 1 1" />
      </material>
    </visual>
  </link>
  <joint name="left_hip_pitch_joint" type="revolute">
    <origin xyz="0 0.074191 -0.0064909" rpy="-0.087266 0 0" />
    <parent link="base_link" />
    <child link="left_thigh_pitch_link" />
    <axis xyz="0 1 0" />
    <limit lower="-2.618" upper="2.618" effort="366" velocity="6.49" />
    <dynamics armature="0.592" friction="0.01" damping="0.01" />
  </joint>
  <link name="left_thigh_roll_link">
    <inertial>
      <origin xyz="-0.04311887 0.00872071 -0.0463606" rpy="0 0 0" />
      <mass value="3.23888801" />
      <inertia ixx="0.01009227" ixy="-0.00074153" ixz="0.00661154" iyy="0.01947534" iyz="0.00041876" izz="0.01518734" />
    </inertial>
    <visual>
      <origin xyz="0 0 0" rpy="0 0 0" />
      <geometry>
        <mesh filename="../meshes/gr3v2_1_1/left_thigh_roll_link.STL" />
      </geometry>
      <material name="">
        <color rgba="1 1 1 1" />
      </material>
    </visual>
    <collision>
      <origin xyz="-0.045 0.015 0" rpy="0 0 0" />
      <geometry>
        <box size="0.2 0.02 0.08" />
      </geometry>
    </collision>
  </link>
  <joint name="left_hip_roll_joint" type="revolute">
    <origin xyz="0 0.0479 -0.015" rpy="0.087266 0 0" />
    <parent link="left_thigh_pitch_link" />
    <child link="left_thigh_roll_link" />
    <axis xyz="1 0 0" />
    <limit lower="-0.17453" upper="1.5708" effort="140.4" velocity="12.985" />
    <dynamics armature="0.18" friction="0.01" damping="0.01" />
  </joint>
  <link name="left_thigh_yaw_link">
    <inertial>
      <origin xyz="0.00334277 0.00252174 -0.12216115" rpy="0 0 0" />
      <mass value="5.4181897" />
      <inertia ixx="0.04069328" ixy="9.41E-06" ixz="0.00107026" iyy="0.04236917" iyz="0.00045267" izz="0.01020975" />
    </inertial>
    <visual>
      <origin xyz="0 0 0" rpy="0 0 0" />
      <geometry>
        <mesh filename="../meshes/gr3v2_1_1/left_thigh_yaw_link.STL" />
      </geometry>
      <material name="">
        <color rgba="1 1 1 1" />
      </material>
    </visual>
    <collision>
      <origin xyz="0 0 -0.15" rpy="0 0 0" />
      <geometry>
        <cylinder radius="0.055" length="0.22" />
      </geometry>
    </collision>
  </link>
  <joint name="left_hip_yaw_joint" type="revolute">
    <origin xyz="0.0052421 0.010464 -0.093339" rpy="0 0 0" />
    <parent link="left_thigh_roll_link" />
    <child link="left_thigh_yaw_link" />
    <axis xyz="0 0 1" />
    <limit lower="-0.69813" upper="1.5708" effort="140.4" velocity="12.985" />
    <dynamics armature="0.18" friction="0.01" damping="0.01" />
  </joint>
  <link name="left_shank_pitch_link">
    <inertial>
      <origin xyz="0.01206312 -4.306E-05 -0.19818201" rpy="0 0 0" />
      <mass value="3.19509257" />
      <inertia ixx="0.04100035" ixy="4.117E-05" ixz="0.00028647" iyy="0.04168073" iyz="3.7E-06" izz="0.00410335" />
    </inertial>
    <visual>
      <origin xyz="0 0 0" rpy="0 0 0" />
      <geometry>
        <mesh filename="../meshes/gr3v2_1_1/left_shank_pitch_link.STL" />
      </geometry>
      <material name="">
        <color rgba="1 1 1 1" />
      </material>
    </visual>
    <collision>
      <origin xyz="0 0 -0.185" rpy="0 0 0" />
      <geometry>
        <cylinder radius="0.055" length="0.25" />
      </geometry>
    </collision>
  </link>
  <joint name="left_knee_pitch_joint" type="revolute">
    <origin xyz="0 0 -0.31499" rpy="0 0 0" />
    <parent link="left_thigh_yaw_link" />
    <child link="left_shank_pitch_link" />
    <axis xyz="0 1 0" />
    <limit lower="0" upper="2.3562" effort="366" velocity="6.49" />
    <dynamics armature="0.592" friction="0.01" damping="0.01" />
  </joint>
  <link name="left_foot_pitch_link">
    <inertial>
      <origin xyz="0 0 -1.223E-05" rpy="0 0 0" />
      <mass value="0.0594926" />
      <inertia ixx="6.77E-06" ixy="0" ixz="0" iyy="6.15E-06" iyz="0" izz="3.74E-06" />
    </inertial>
    <visual>
      <origin xyz="0 0 0" rpy="0 0 0" />
      <geometry>
        <mesh filename="../meshes/gr3v2_1_1/left_foot_pitch_link.STL" />
      </geometry>
      <material name="">
        <color rgba="1 1 1 1" />
      </material>
    </visual>
  </link>
  <joint name="left_ankle_pitch_joint" type="revolute">
    <origin xyz="0.020049 0 -0.425" rpy="0 0 0" />
    <parent link="left_shank_pitch_link" />
    <child link="left_foot_pitch_link" />
    <axis xyz="0 1 0" />
    <limit lower="-0.7854" upper="0.7854" effort="59.4" velocity="16.76" />
    <dynamics armature="0.031" friction="0.01" damping="0.01" />
  </joint>
  <link name="left_foot_roll_link">
    <inertial>
      <origin xyz="0.00555284 -0.00021651 -0.03679271" rpy="0 0 0" />
      <mass value="1.21412398" />
      <inertia ixx="0.0013948" ixy="-2.058E-05" ixz="0.00065308" iyy="0.00797003" iyz="1.129E-05" izz="0.00825114" />
    </inertial>
    <visual>
      <origin xyz="0 0 0" rpy="0 0 0" />
      <geometry>
        <mesh filename="../meshes/gr3v2_1_1/left_foot_roll_link.STL" />
      </geometry>
      <material name="">
        <color rgba="1 1 1 1" />
      </material>
    </visual>
    <collision name="cylinder_foot_1">
      <origin xyz="0.028 -0.02 -0.048" rpy="0 1.57 0" />
      <geometry>
        <cylinder radius="0.02" length="0.24" />
      </geometry>
    </collision>
    <collision name="cylinder_foot_2">
      <origin xyz="0.028 0.02 -0.048" rpy="0 1.57 0" />
      <geometry>
        <cylinder radius="0.02" length="0.24" />
      </geometry>
    </collision>
  </link>
  <joint name="left_ankle_roll_joint" type="revolute">
    <origin xyz="0 0 0" rpy="0 0 0" />
    <parent link="left_foot_pitch_link" />
    <child link="left_foot_roll_link" />
    <axis xyz="1 0 0" />
    <limit lower="-0.43633" upper="0.43633" effort="59.4" velocity="16.76" />
    <dynamics armature="0.0155" friction="0.01" damping="0.01" />
  </joint>
  <link name="imu_link">
    <inertial>
      <origin xyz="-0.00016403 0 -4.1E-05" rpy="0 0 0" />
      <mass value="0.03" />
      <inertia ixx="1.44E-06" ixy="0" ixz="0" iyy="1.57E-06" iyz="0" izz="2.61E-06" />
    </inertial>
    <visual>
      <origin xyz="0 0 0" rpy="0 0 0" />
      <geometry>
        <mesh filename="../meshes/gr3v2_1_1/imu_link.STL" />
      </geometry>
      <material name="">
        <color rgba="1 1 1 1" />
      </material>
    </visual>
  </link>
  <joint name="imu_joint" type="fixed">
    <origin xyz="-0.005 0 -0.069675" rpy="0 0 0" />
    <parent link="base_link" />
    <child link="imu_link" />
    <axis xyz="0 0 0" />
  </joint>
  <link name="left_dummy_hand_link">
    <inertial>
      <origin xyz="0.01485 -0.006224 -0.05627" rpy="0 0 0" />
      <mass value="0.4686" />
      <inertia ixx="0.0006912" ixy="7.052E-5" ixz="-0.000229" iyy="0.001342" iyz="-9.13E-6" izz="0.0007638" />
    </inertial>
    <visual>
      <origin xyz="0 0 0" rpy="0 0 0" />
      <geometry>
        <mesh filename="../meshes/dummy_hand/dummy_left_hand.STL" />
      </geometry>
      <material name="">
        <color rgba="1 1 1 1" />
      </material>
    </visual>
    <collision>
      <origin xyz="0 0 -0.055" rpy="0 0 0" />
      <geometry>
        <box size="0.07 0.04 0.11" />
      </geometry>
      <material name="">
        <color rgba="1 1 1 1" />
      </material>
    </collision>
  </link>
  <joint name="left_dummy_hand_joint" type="fixed">
    <parent link="left_end_effector_link" />
    <child link="left_dummy_hand_link" />
    <origin rpy="0 0 0" xyz="0 0 0" />
  </joint>
  <link name="dummy_right_hand_link">
    <inertial>
      <origin xyz="0.01432 0.006317 -0.0565" rpy="0 0 0" />
      <mass value="0.4686" />
      <inertia ixx="0.0007033" ixy="-7.032E-5" ixz="-0.000234" iyy="0.001361" iyz="1.09E-5" izz="0.0007708" />
    </inertial>
    <visual>
      <origin xyz="0 0 0" rpy="0 0 0" />
      <geometry>
        <mesh filename="../meshes/dummy_hand/dummy_right_hand.STL" />
      </geometry>
      <material name="">
        <color rgba="1 1 1 1" />
      </material>
    </visual>
    <collision>
      <origin xyz="0 0 -0.055" rpy="0 0 0" />
      <geometry>
        <box size="0.07 0.04 0.11" />
      </geometry>
      <material name="">
        <color rgba="1 1 1 1" />
      </material>
    </collision>
  </link>
  <joint name="dummy_right_hand_joint" type="fixed">
    <parent link="right_end_effector_link" />
    <child link="dummy_right_hand_link" />
    <origin rpy="0 0 0" xyz="0 0 0" />
  </joint>
</robot>
